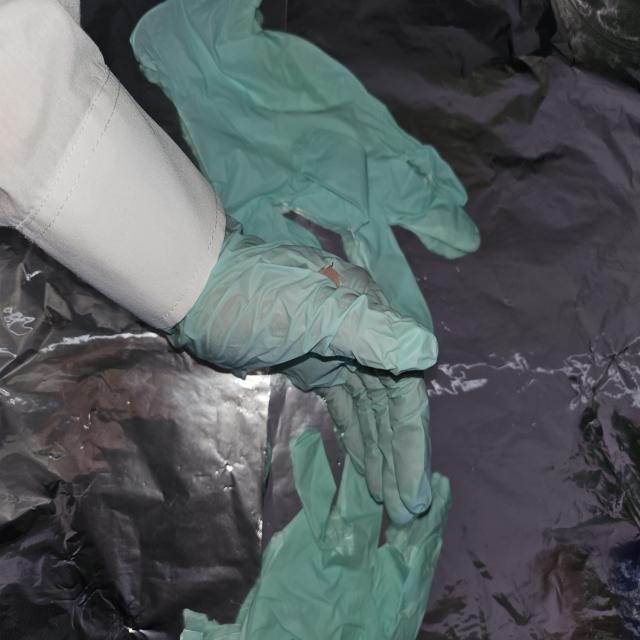gloves_damaged: (162, 210, 440, 527)
